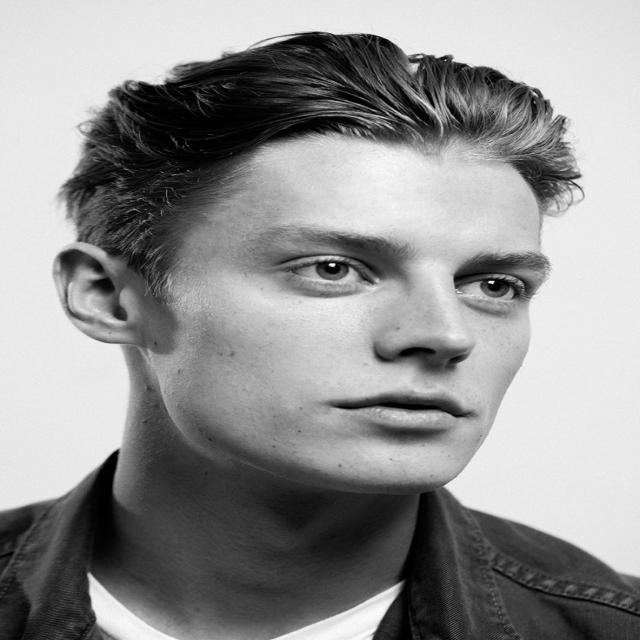front: (174, 201, 612, 482)
